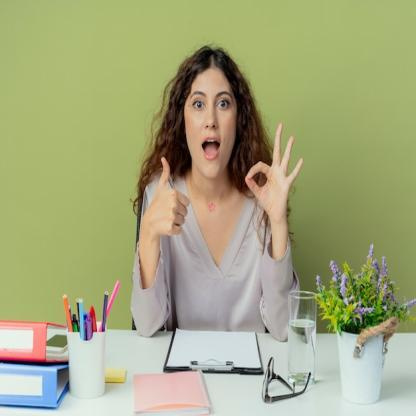ok: (242, 121, 306, 217)
thumb_up: (147, 157, 190, 240)
